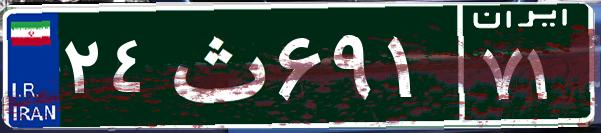1: (385, 28, 445, 110), (525, 38, 570, 115)
2: (57, 26, 110, 107)
4: (110, 28, 158, 105)
6: (273, 28, 330, 110)
7: (475, 38, 525, 113)
9: (330, 28, 385, 110)
ث: (158, 15, 273, 115)
